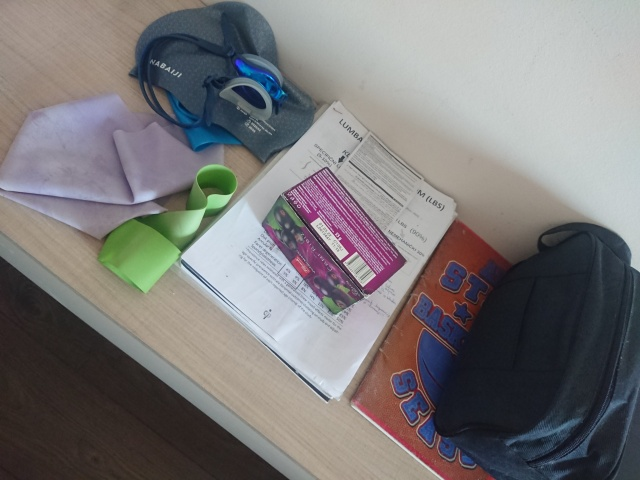Franck Black Currant Tea 60g: (259, 164, 409, 317)
